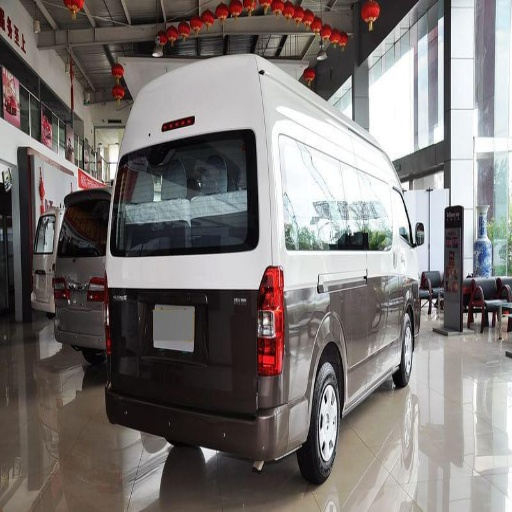back_bumper: (235, 365, 313, 456)
back_glass: (125, 150, 247, 250)
back_right_door: (338, 284, 367, 394)
trunk: (105, 254, 268, 409), (282, 278, 330, 374)
